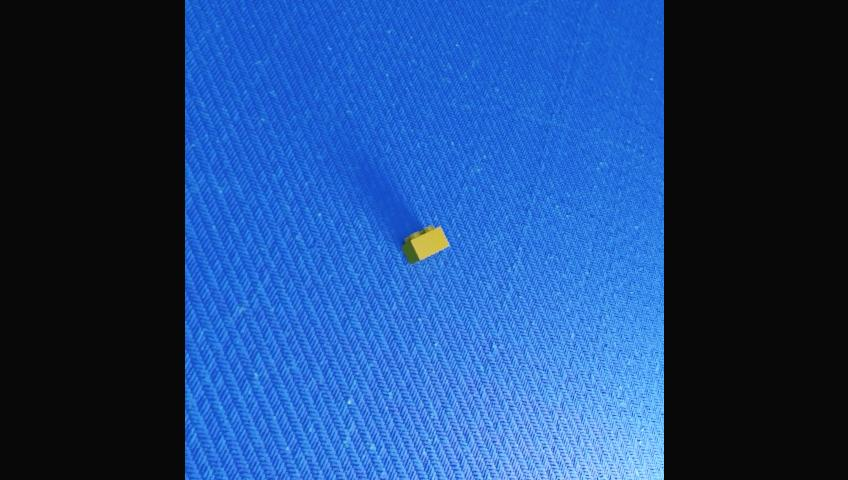2x2_yellow: (401, 224, 449, 263)
